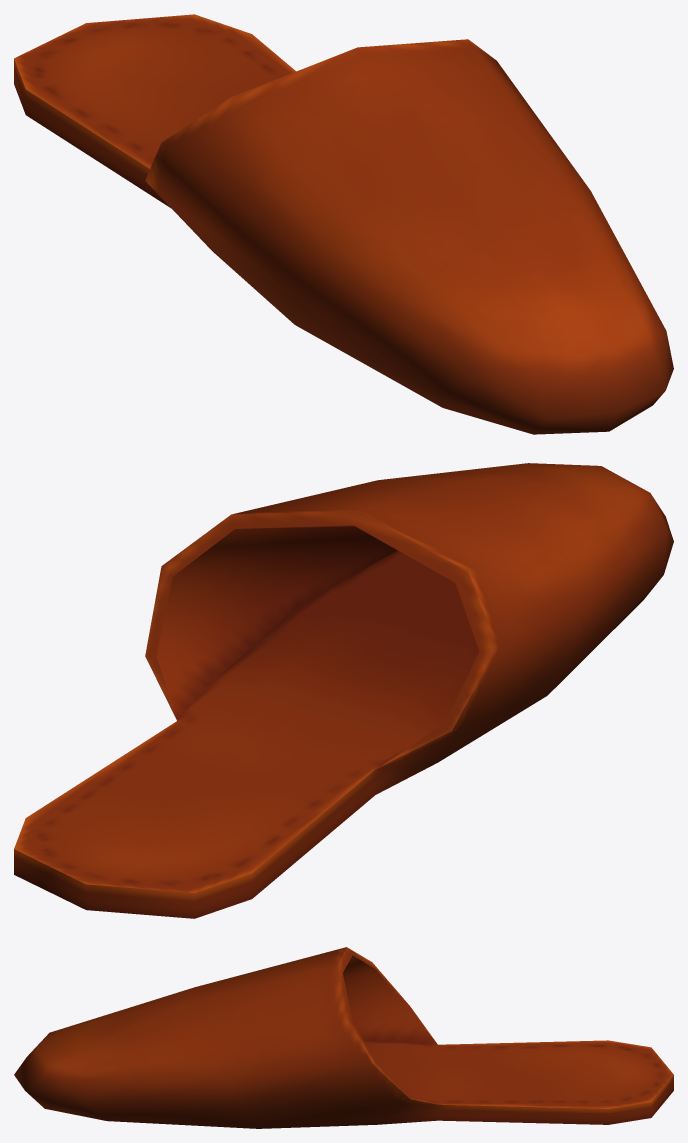
File: set_slippers_02.fbx
3 views of the same model, one above another, from view 1: azimuth 30°, elevation 25°; view 2: azimuth 150°, elevation 25°; view 3: azimuth 270°, elevation 25° (orthographic). The views are drawn at different scales.
Visible parts, largest first — view 1: set_slippers_02; view 2: set_slippers_02; view 3: set_slippers_02.
Part boxes in pixels (x1,y1,x2,y2): set_slippers_02: [14, 14, 673, 434]; set_slippers_02: [14, 463, 673, 918]; set_slippers_02: [14, 947, 673, 1128].
Size of the model in its own units: 9.79 by 5.59 by 26.9.
